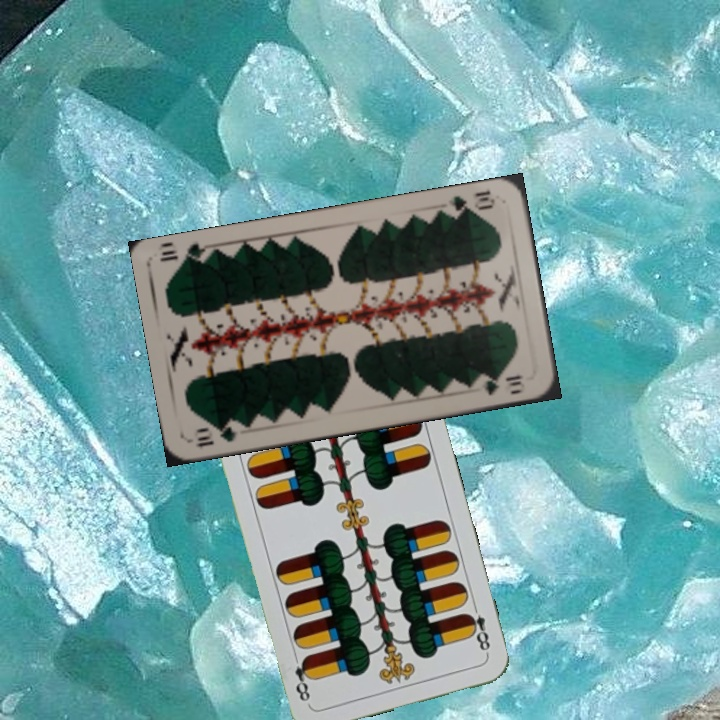E8: (462, 599, 493, 658)
G10: (443, 187, 498, 220), (193, 420, 239, 450)
